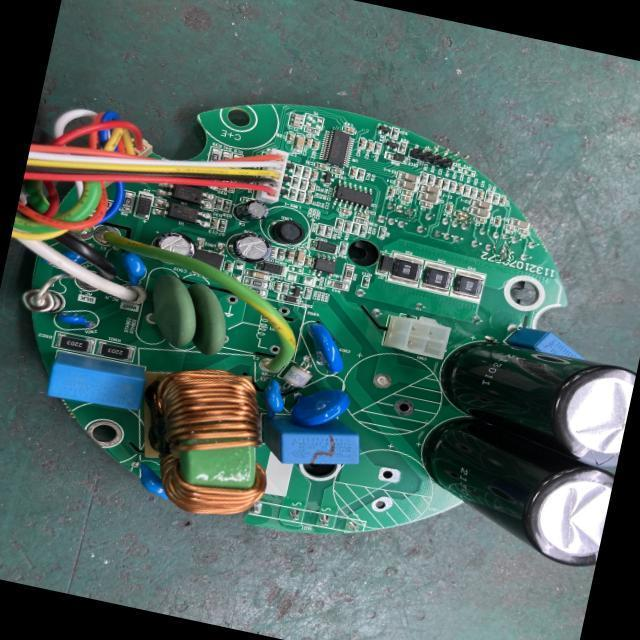damged: (494, 241, 514, 260)
